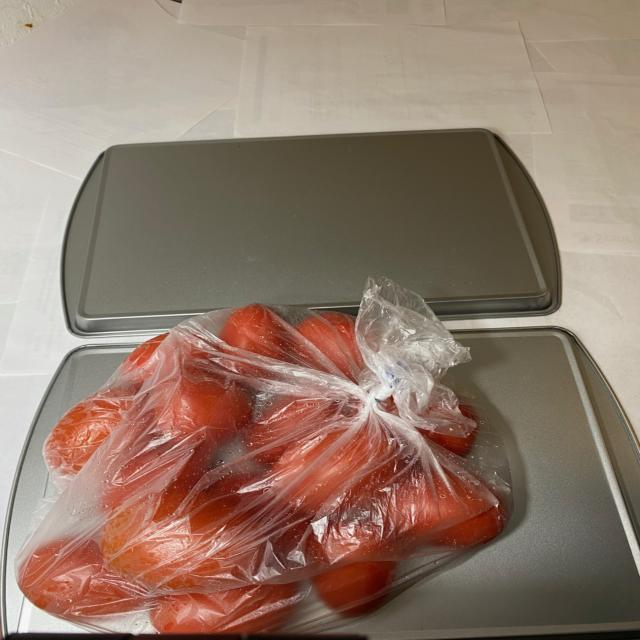tomato: (7, 311, 497, 616)
